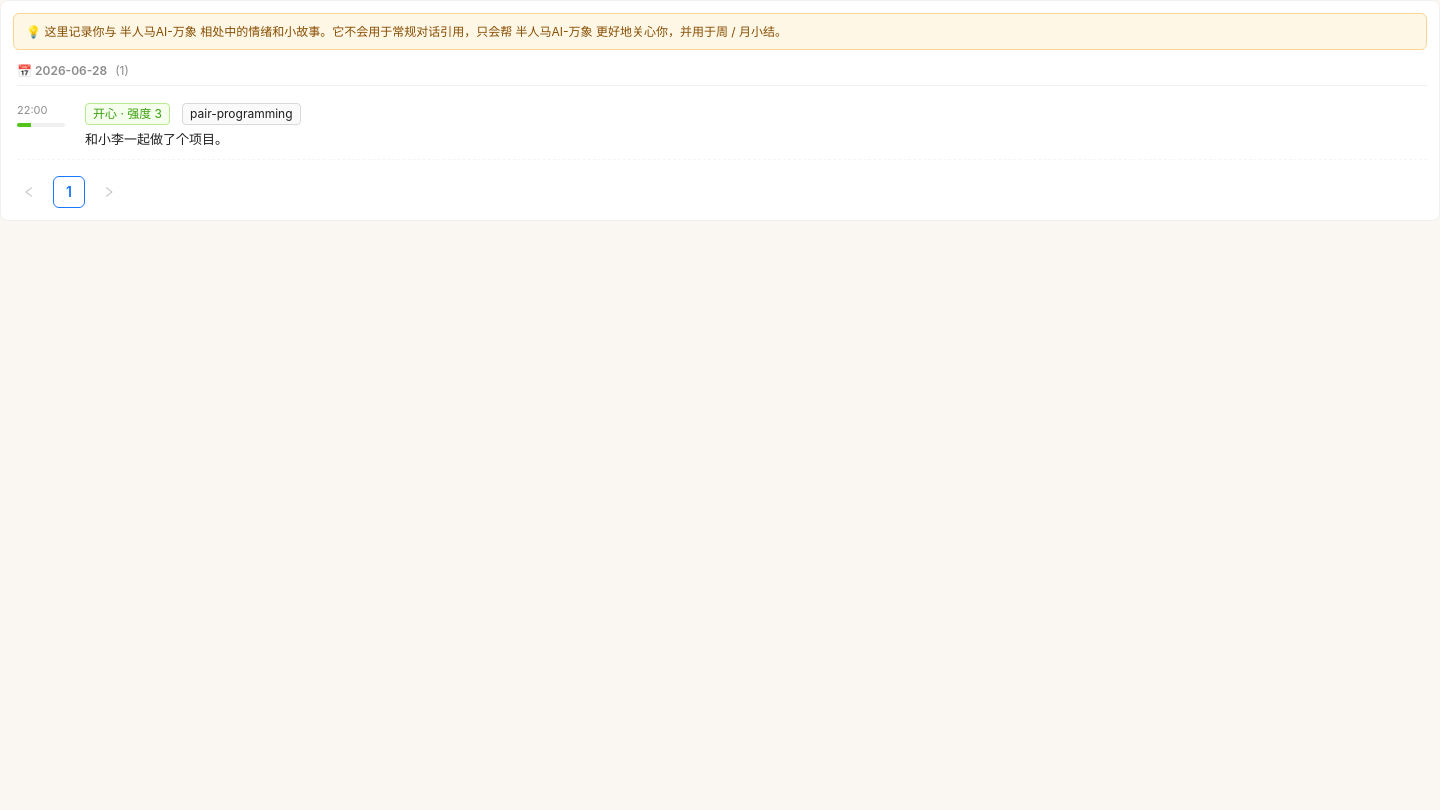
Test: <EpisodesList /> › opens detail drawer with verbatim_quote + people on row click
The width and height of the screenshot is (1440, 810).
Click the text "和小李一起做了个项目。".
click(156, 139)  # box [85,131,228,147]
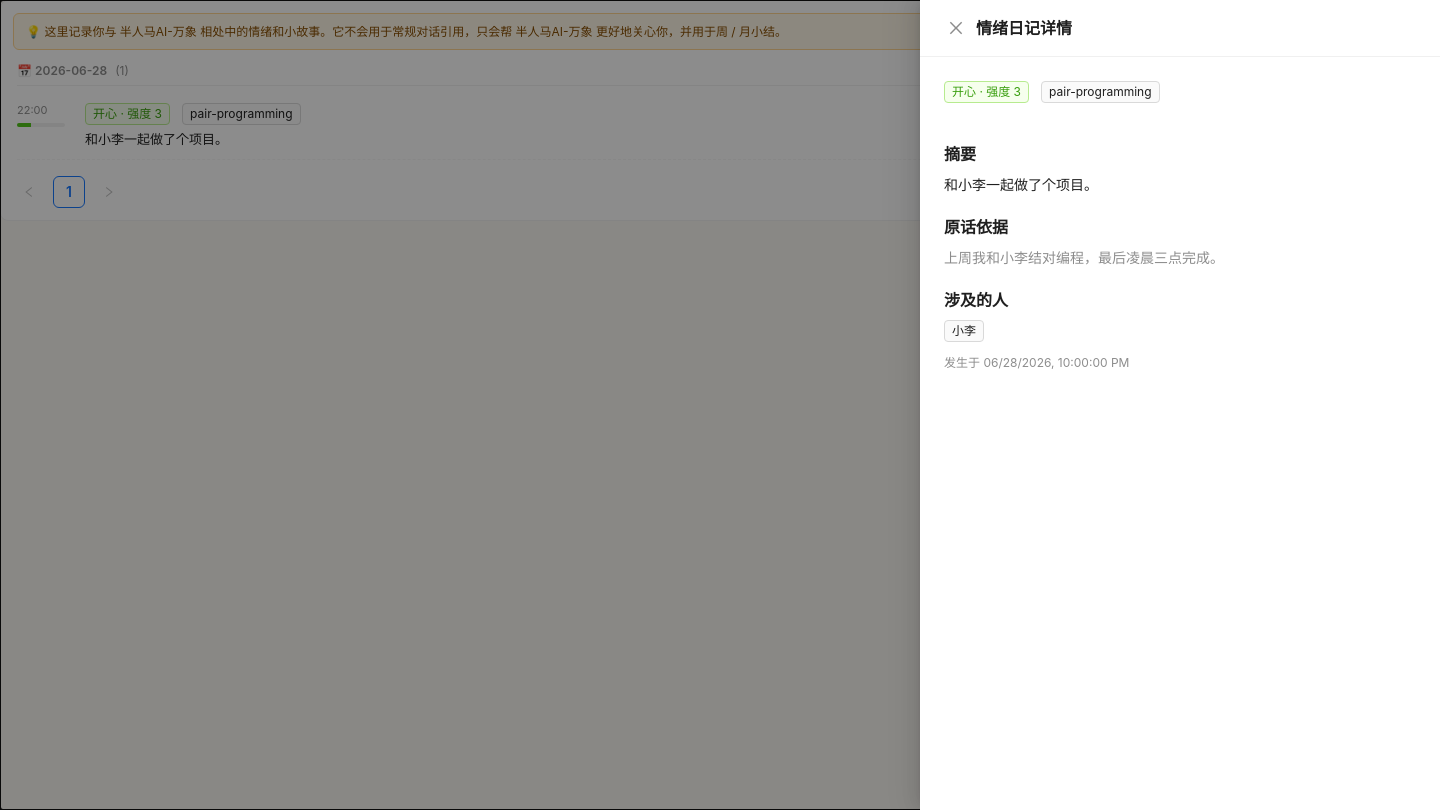
Expected: the text "上周我和小李结对编程，最后凌晨三点完成。" is shown, [944,249,1224,266]
